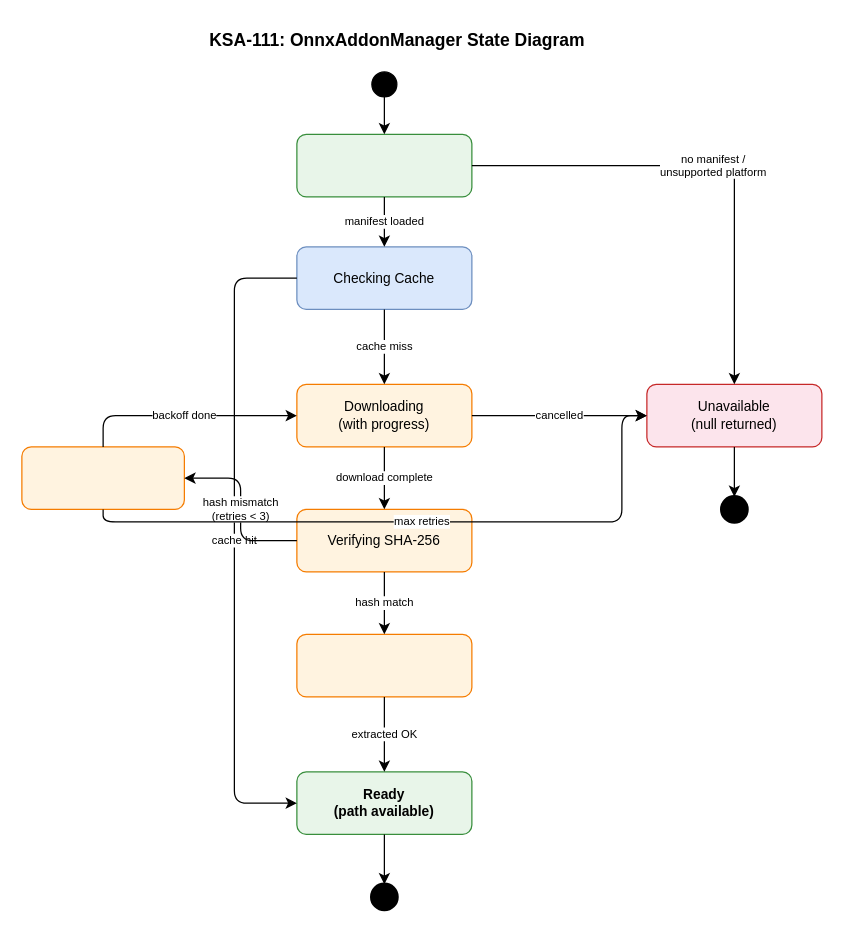
The diagram is 844 pixels wide and 933 high, and some of its shapes have lost their labels. Here are the shapes that lost their labels. From the top down, the centre of each, then its label:
point (384, 165): Initializing (load manifest)
point (102, 477): Retrying (backoff wait)
point (384, 665): Extracting tar.gz
